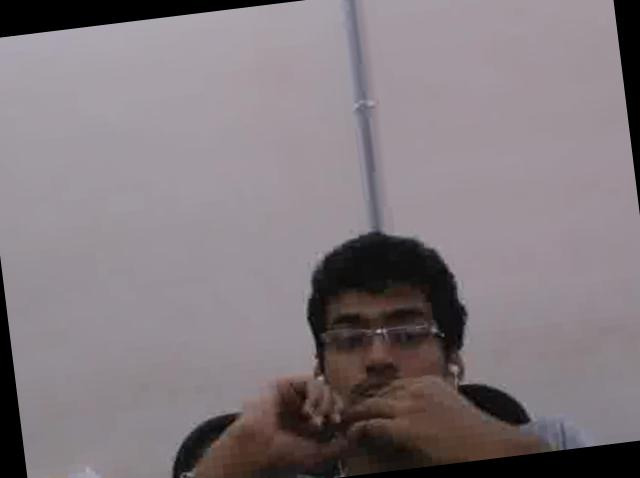bosan: (312, 272, 464, 447)
